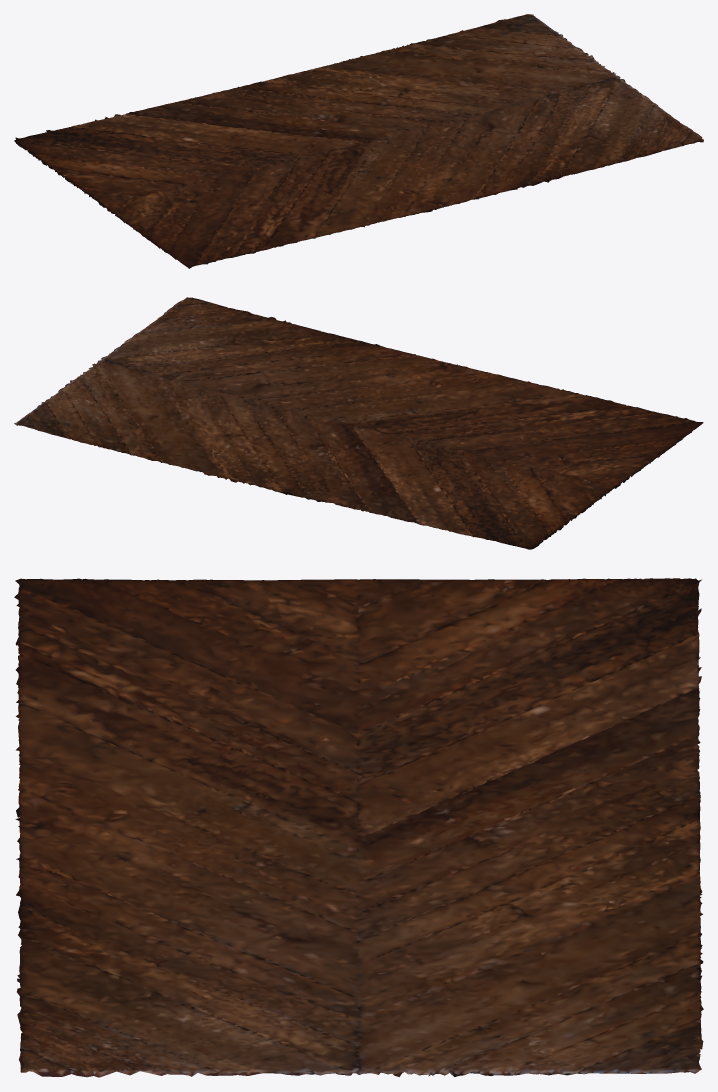
Rendered from Table.fbx.
3 renders of one model, top to bottom at view 1: azimuth 30°, elevation 25°; view 2: azimuth 150°, elevation 25°; view 3: azimuth 270°, elevation 25°, orthographic. The views are drawn at different scales.
Parts seen in each view (by area): view 1: Table_Game; view 2: Table_Game; view 3: Table_Game.
Boxes of the visible parts, box(x1,y1,x2,y2) form: Table_Game: box(14, 14, 703, 268); Table_Game: box(14, 297, 703, 549); Table_Game: box(14, 578, 703, 1077).
Size of the model in its own units: 161 by 1.71 by 94.61.
